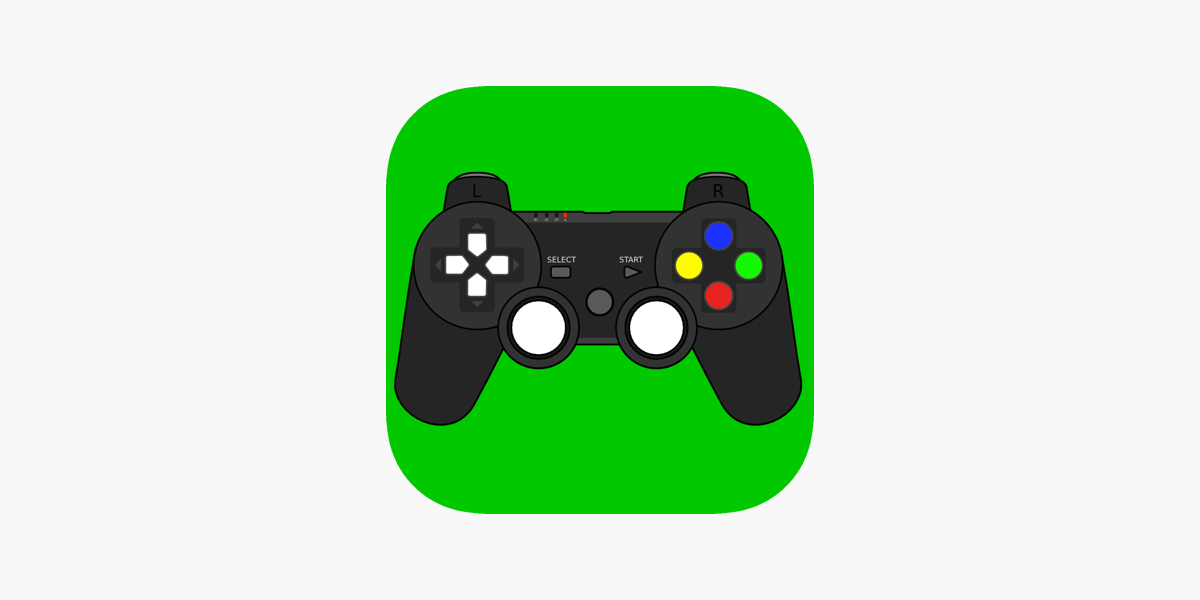controller: (392, 171, 804, 428)
